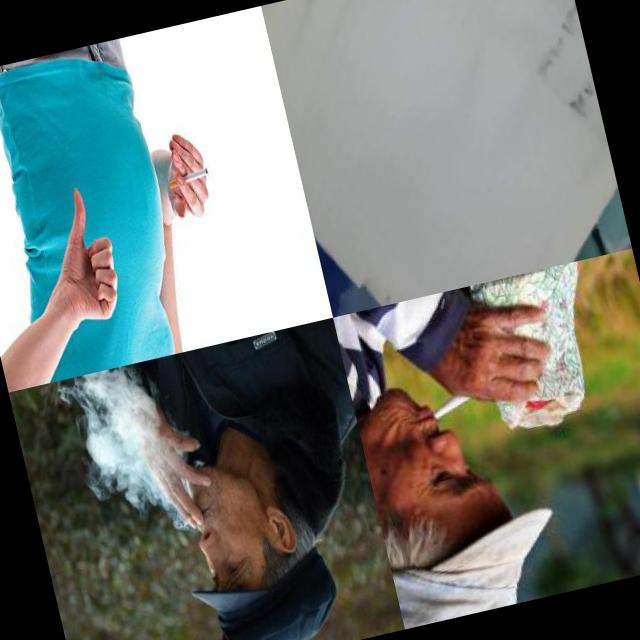smoke: (418, 392, 487, 426), (166, 166, 210, 190), (173, 508, 204, 528)
